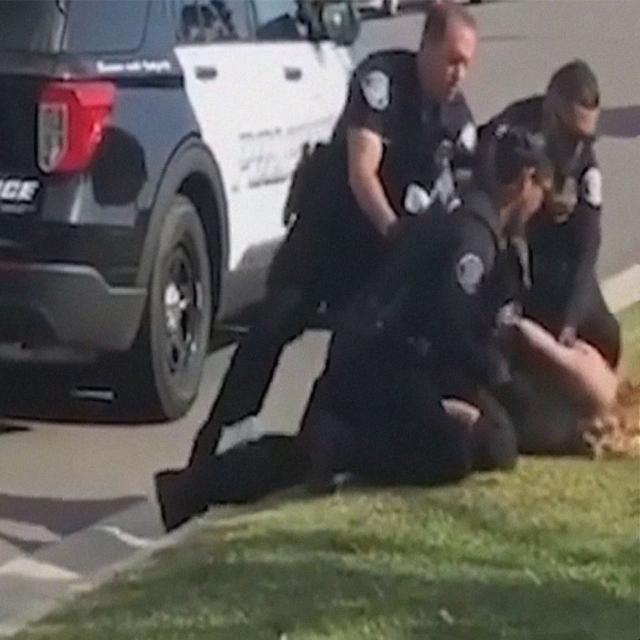police: (204, 0, 495, 437), (297, 121, 551, 479), (477, 42, 632, 377)
